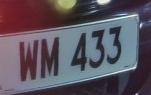3: (87, 26, 108, 70), (106, 24, 125, 66)
4: (69, 28, 91, 79)
M: (39, 35, 63, 84)
W: (17, 36, 42, 87)
